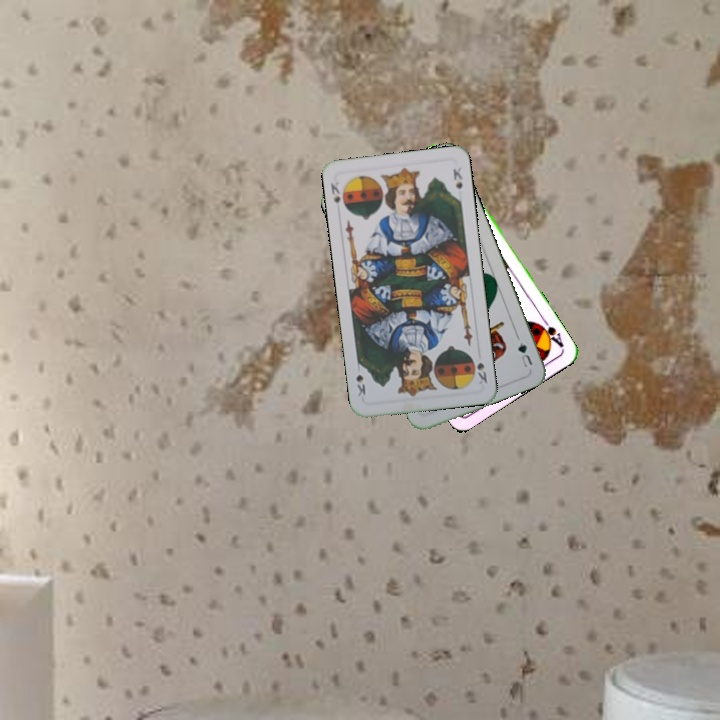GU: (513, 332, 535, 370)
SA: (534, 315, 567, 350)
SK: (326, 178, 349, 213), (473, 358, 490, 387)
